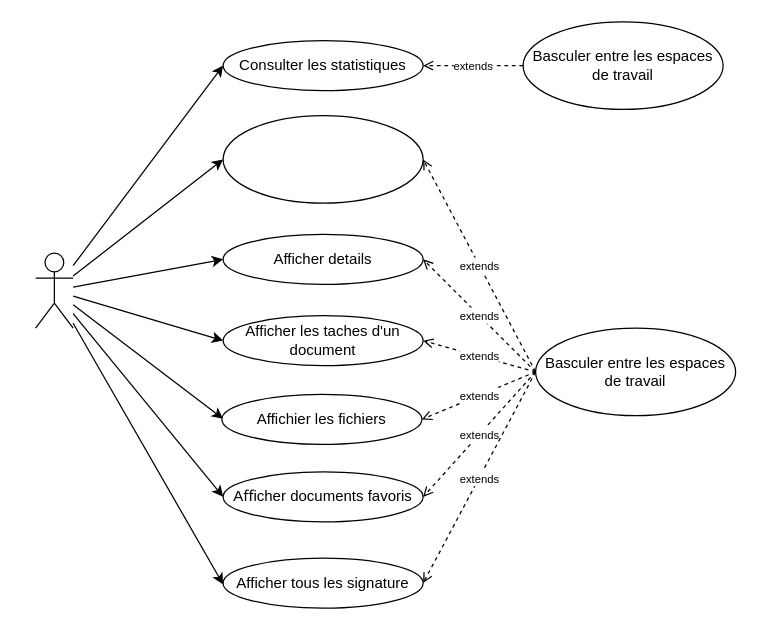
Image size: 758x630. Some labels were removed from this diagram. The centre of each missing label's shape, as x and y in pixels:
"Consulter les documents a l'aide de filtre rapide" belongs at pixel 322 158.
"Utilisateur" belongs at pixel 53 290.
